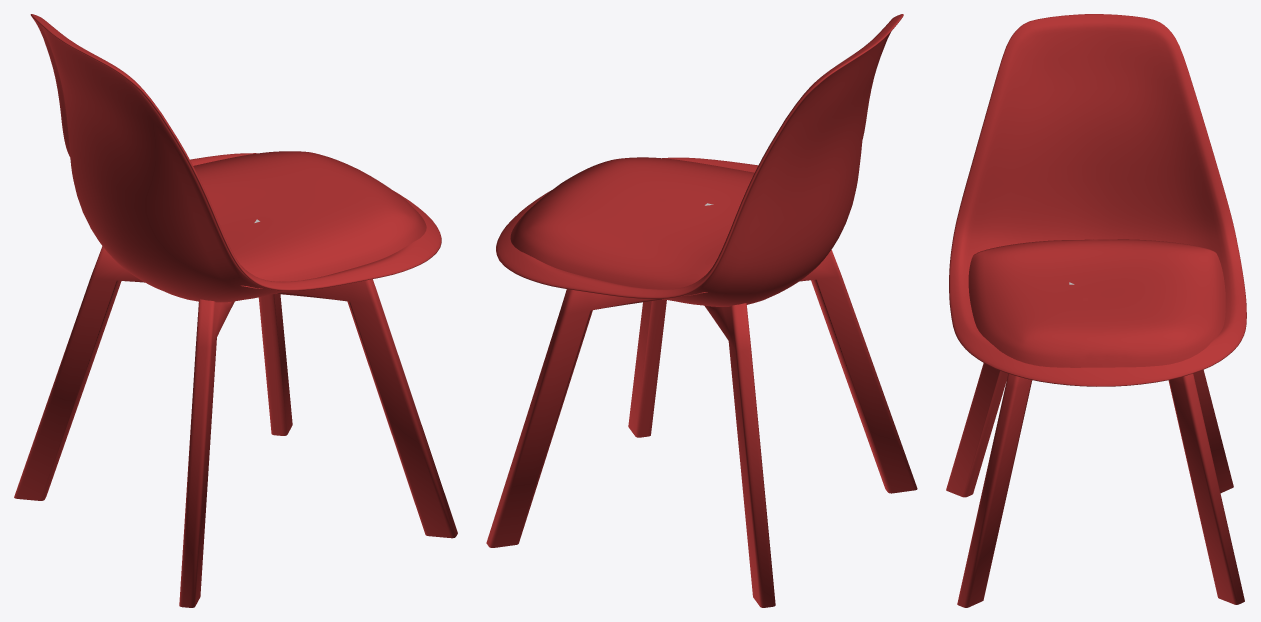
File: silla.obj
3 views of the same model, side by side, from view 1: azimuth 30°, elevation 25°; view 2: azimuth 150°, elevation 25°; view 3: azimuth 270°, elevation 25° (orthographic). The views are drawn at different scales.
Parts seen in each view (by area): view 1: polySurface2; view 2: polySurface2; view 3: polySurface2.
Part boxes in pixels (<box>): polySurface2: <box>14,14,457,607</box>; polySurface2: <box>486,14,917,607</box>; polySurface2: <box>946,14,1246,607</box>.
Size of the model in its own units: 2.36 by 3.32 by 1.98.
